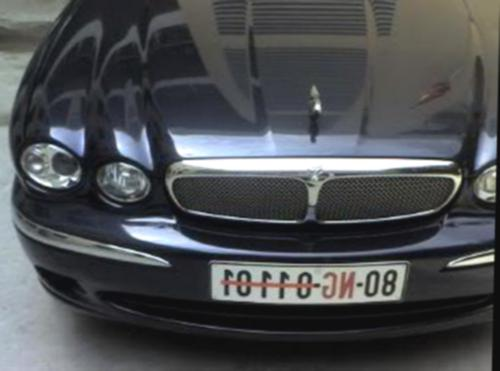License_Plate: (203, 258, 416, 310)
